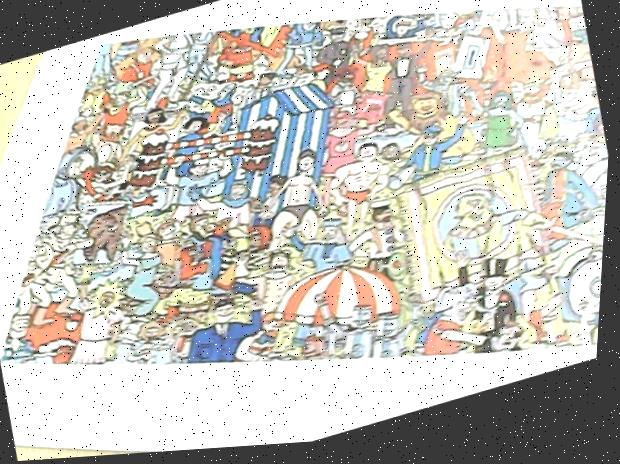waldo: (434, 53, 459, 81)
